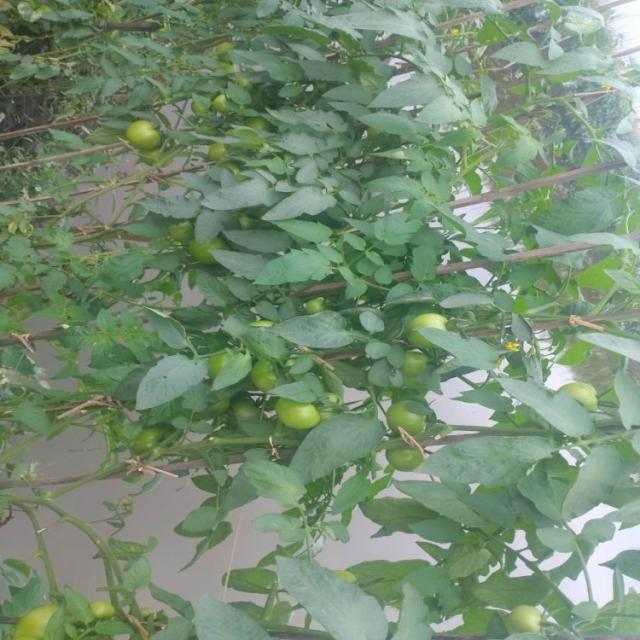tomato: (387, 401, 443, 445), (387, 432, 430, 486), (266, 401, 329, 436), (413, 304, 462, 340), (13, 604, 61, 640), (249, 355, 286, 401), (187, 229, 234, 264), (126, 109, 164, 147), (512, 597, 546, 635), (565, 377, 604, 410), (206, 137, 234, 165)
